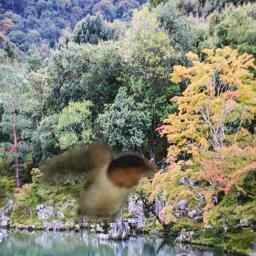Swallow: (38, 141, 155, 223)
